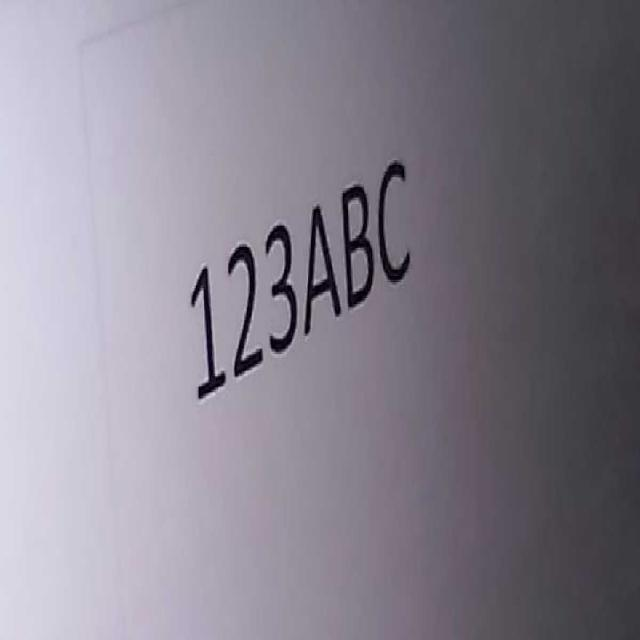license_plate: (174, 151, 416, 403)
